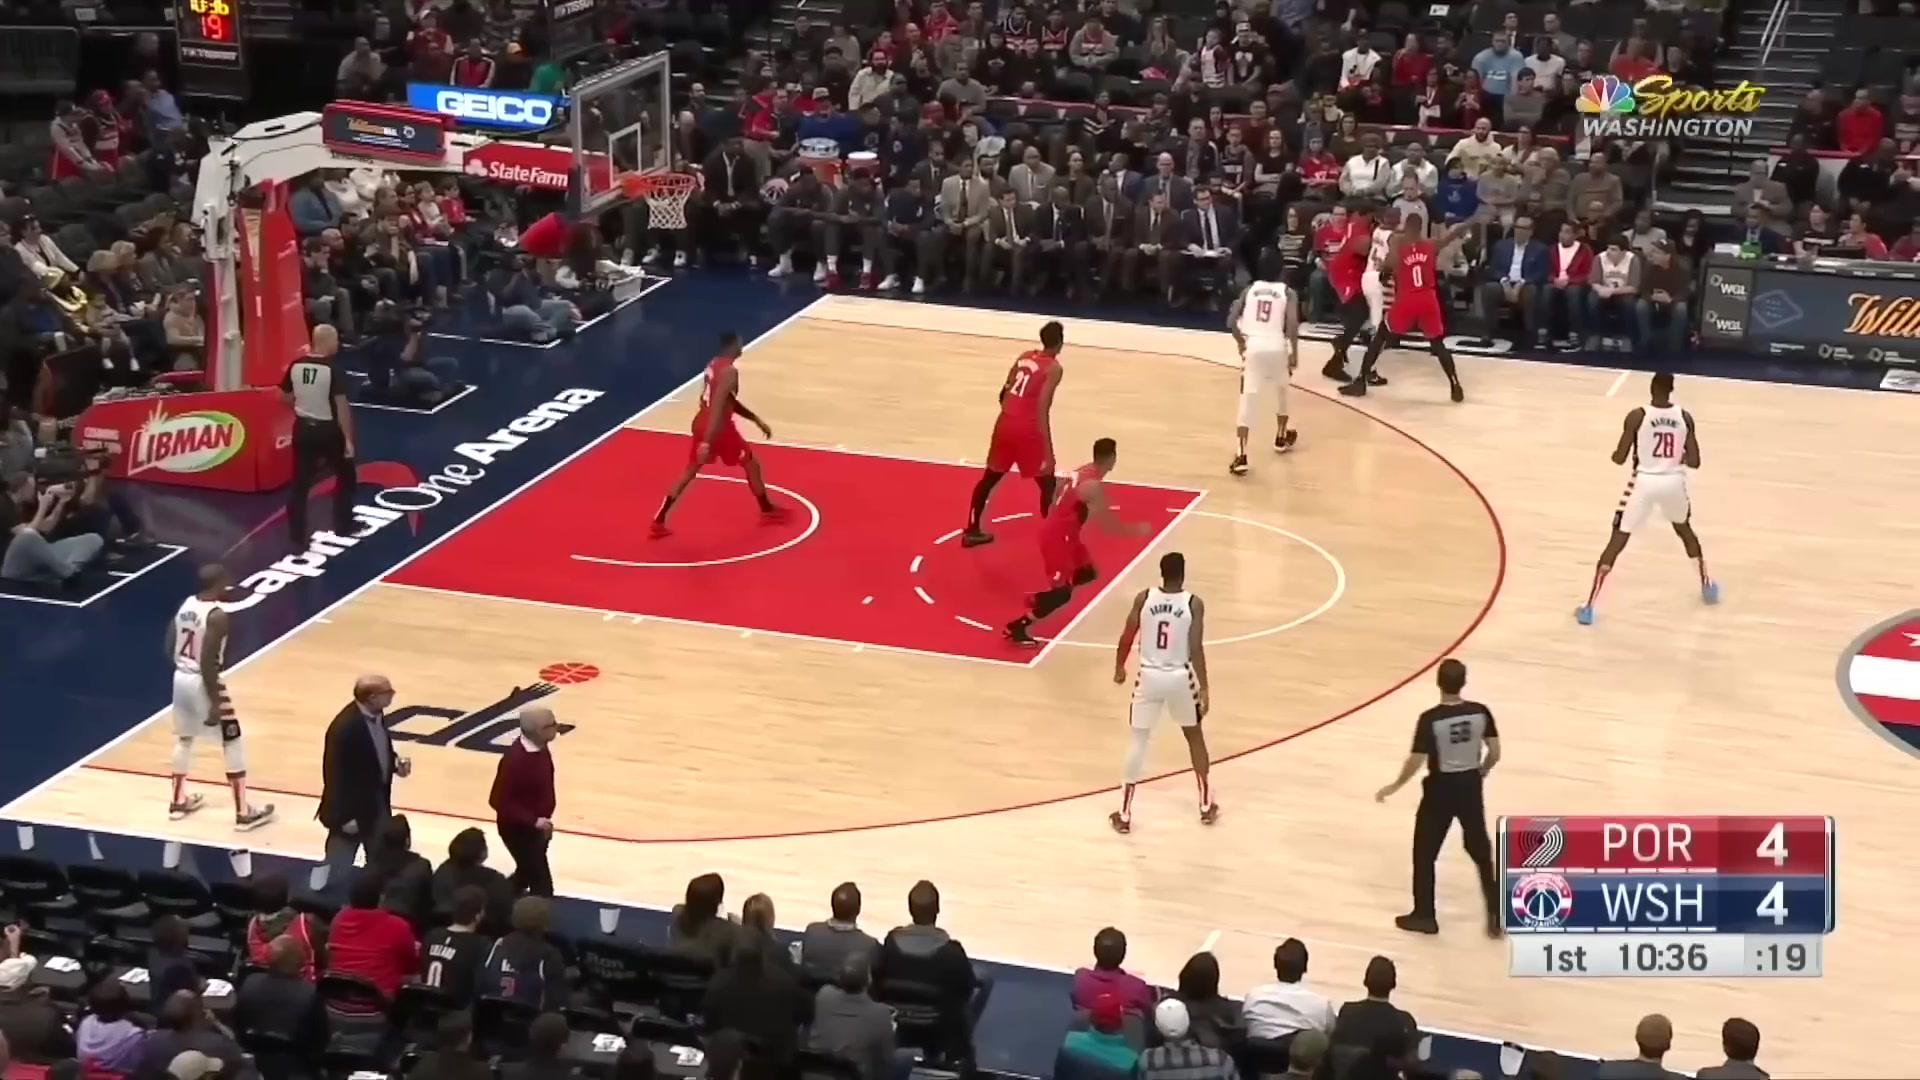foul: (1308, 196, 1478, 405)
